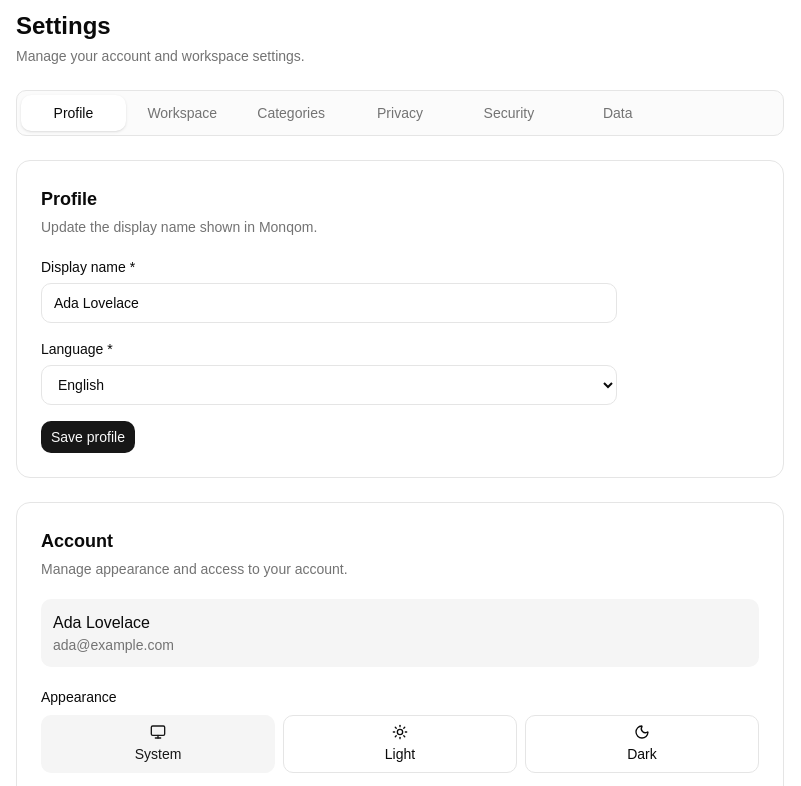
Test case: SettingsPage › explains and disables a locked base currency
Click the button "Workspace": point(182, 113) [130,95,235,131]
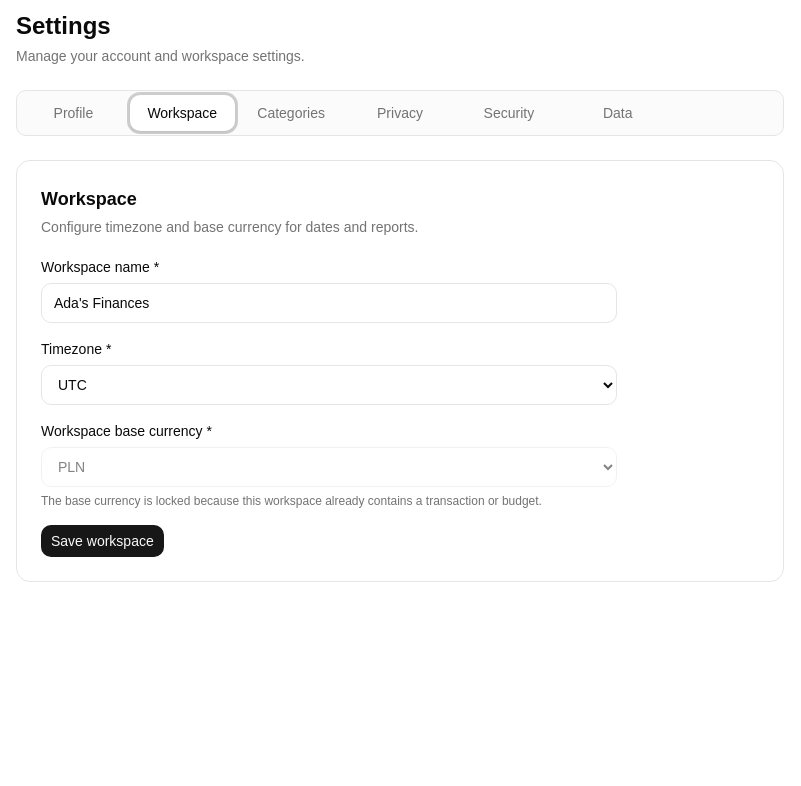
Result: the dropdown labelled "Workspace base currency" is disabled at [41,447,617,487]
Result: the text "The base currency is locked because this workspace already contains a transaction or budget." is shown at [41,494,542,508]
